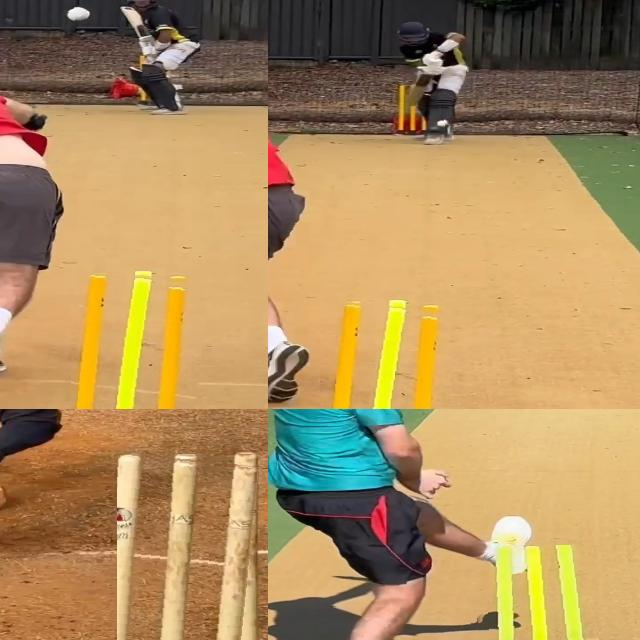Cricket ball: (64, 4, 94, 23), (434, 118, 450, 128)
Stumps: (117, 452, 258, 640), (71, 268, 208, 409), (320, 299, 457, 409), (473, 545, 599, 640)
